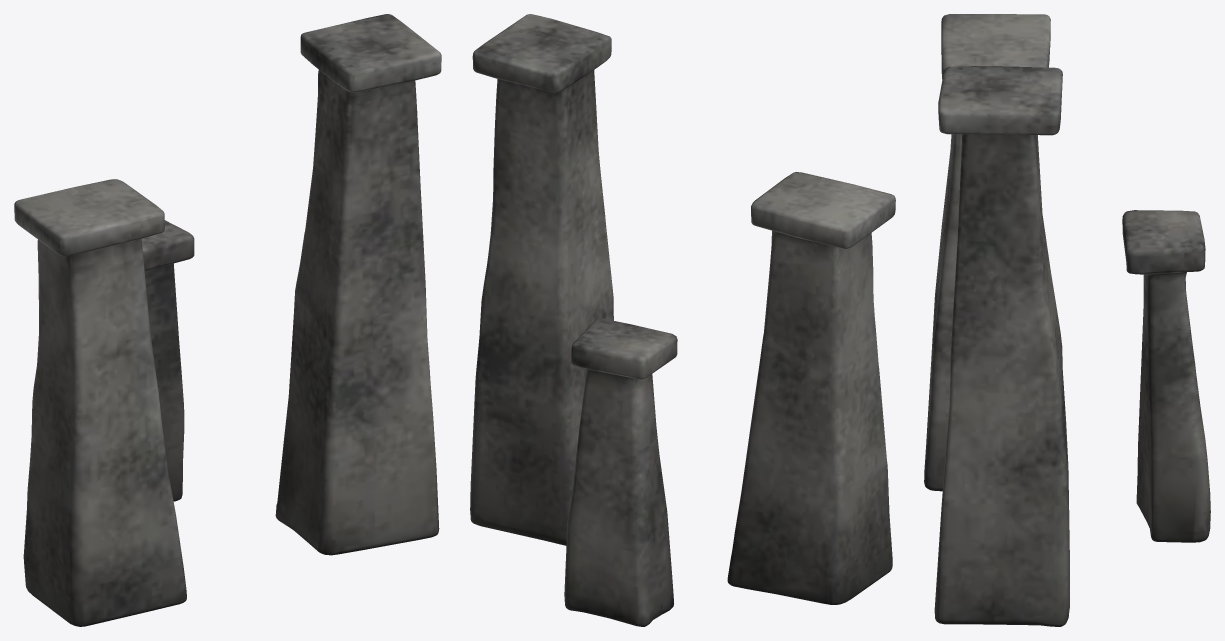
Rendered from simple-granite-chimney-stack-v001.glb.
3 renders of one model, left to right at view 1: azimuth 30°, elevation 25°; view 2: azimuth 150°, elevation 25°; view 3: azimuth 270°, elevation 25°, orthographic. The views are drawn at different scales.
Parts seen in each view (by area): view 1: simple-granite-chimney-stack; view 2: simple-granite-chimney-stack; view 3: simple-granite-chimney-stack.
Boxes of the visible parts, <box> form: simple-granite-chimney-stack: <box>14,14,441,626</box>; simple-granite-chimney-stack: <box>470,14,895,626</box>; simple-granite-chimney-stack: <box>924,14,1210,626</box>.
Size of the model in its own units: 1.46 by 1.76 by 0.8832.
Materials: 1 (1 with a texture image).
